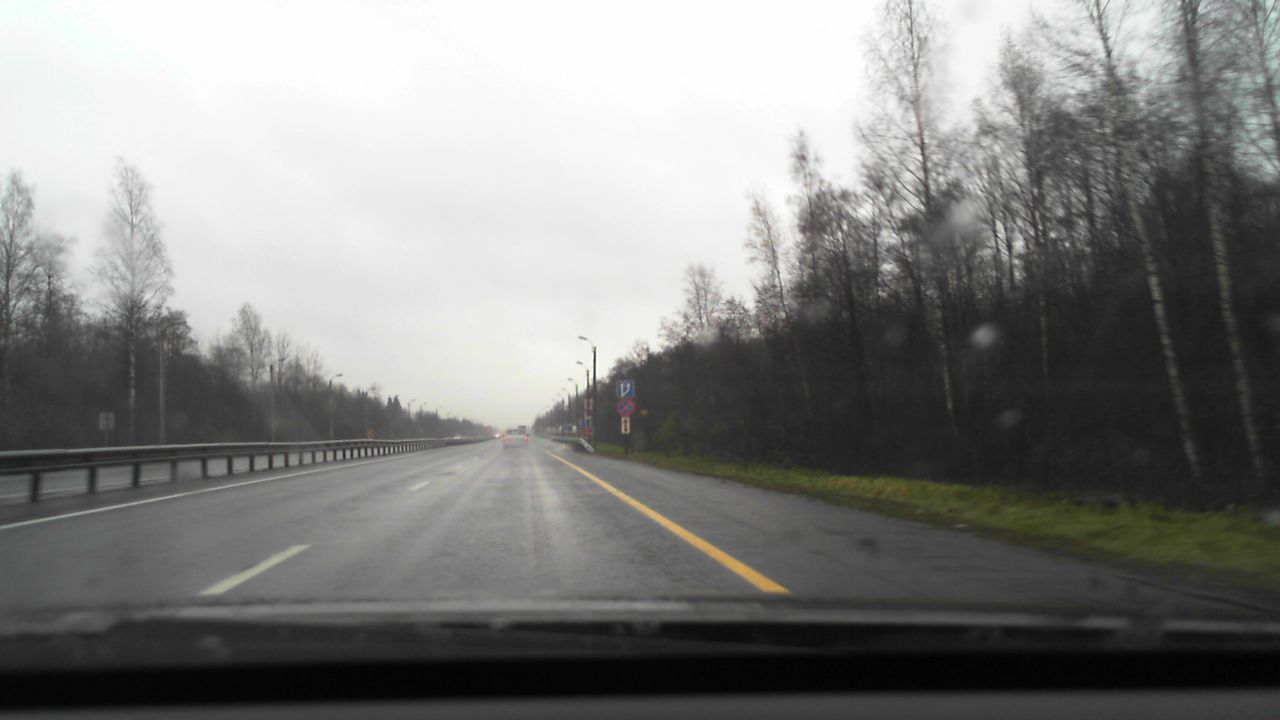No Parking: (615, 400, 635, 416)
